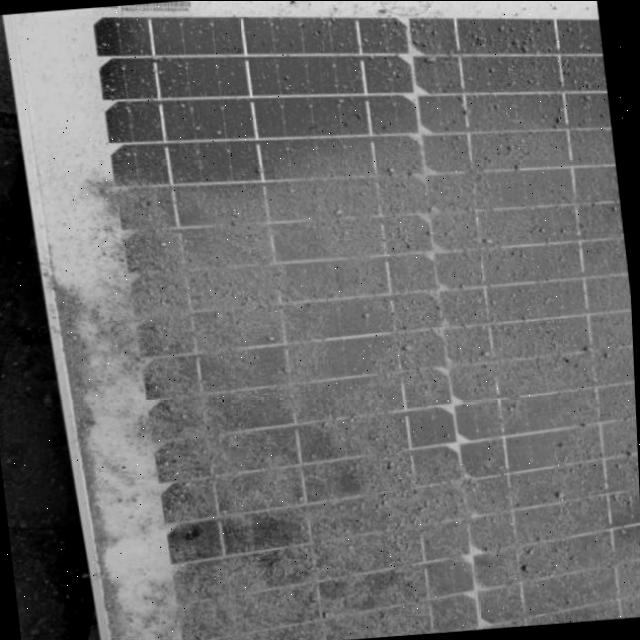Anomaly Solar Panel: (89, 0, 640, 640)
Surface Contaminant: (89, 0, 640, 640)
